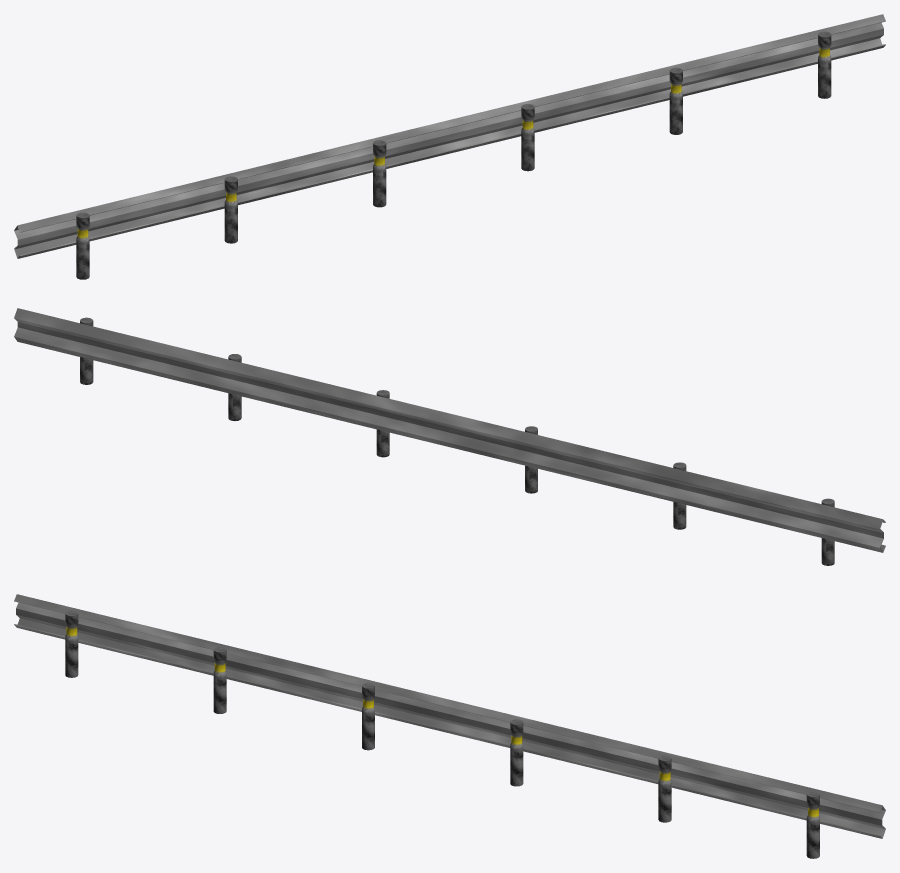
File: fense.fbx
3 views of the same model, one above another, from view 1: azimuth 30°, elevation 25°; view 2: azimuth 150°, elevation 25°; view 3: azimuth 330°, elevation 25° (orthographic).
Visible parts, largest first — view 1: Plane.005, Cylinder.035; view 2: Plane.005, Cylinder.035; view 3: Plane.005, Cylinder.035.
Boxes of the visible parts, x1=… form: Plane.005: x1=14, y1=14, x2=885, y2=258; Cylinder.035: x1=76, y1=31, x2=831, y2=279; Plane.005: x1=14, y1=308, x2=885, y2=552; Cylinder.035: x1=80, y1=317, x2=834, y2=565; Plane.005: x1=14, y1=594, x2=885, y2=838; Cylinder.035: x1=65, y1=610, x2=819, y2=858.
Bounding box in the file's own units: 1951 × 135 × 47.13.
